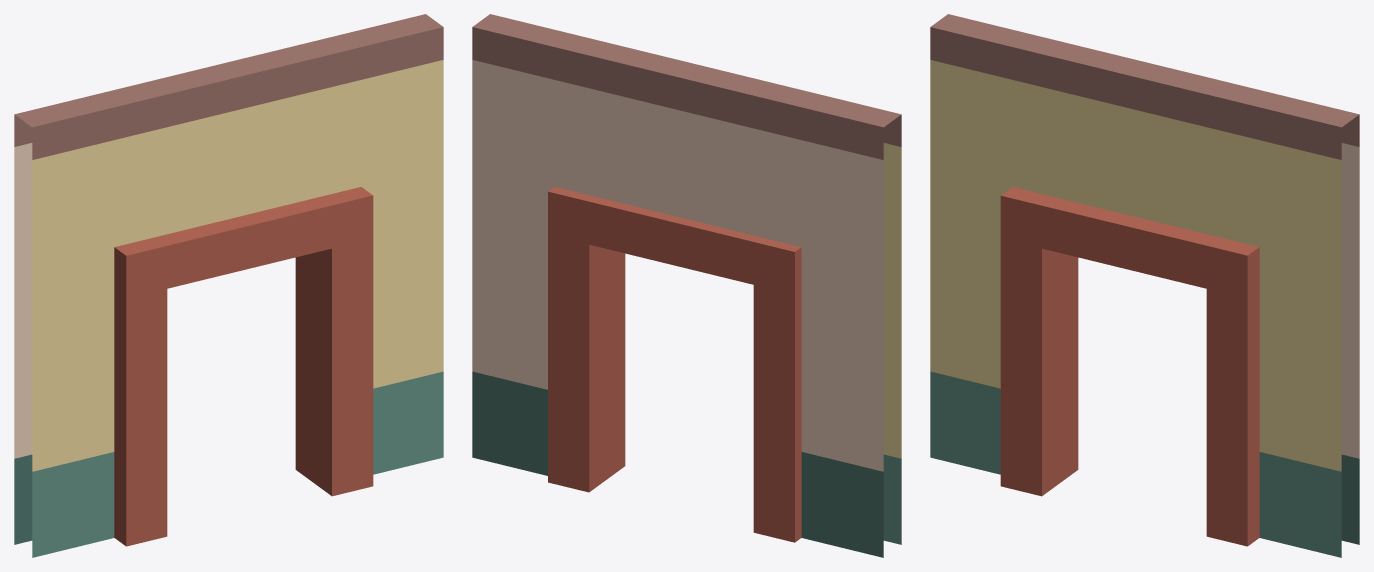
File: wall_insdie.fbx
3 renders of one model, left to right at view 1: azimuth 30°, elevation 25°; view 2: azimuth 150°, elevation 25°; view 3: azimuth 330°, elevation 25°, orthographic.
Parts seen in each view (by area): view 1: inside_wall; view 2: inside_wall; view 3: inside_wall.
Part boxes in pixels (x1,y1,x2,y2): inside_wall: (14,14,443,557); inside_wall: (472,14,901,557); inside_wall: (930,14,1359,557).
Bounding box in the file's own units: 400 × 61.11 × 400.
